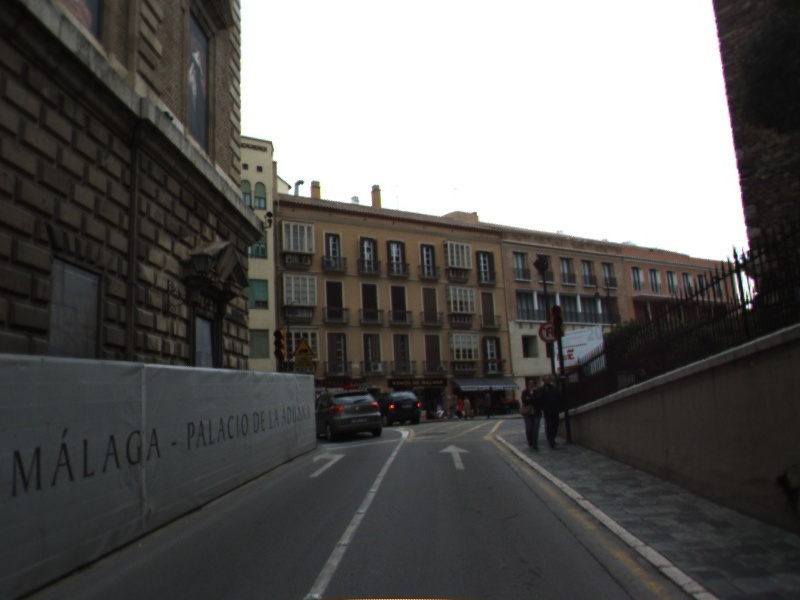LEFT: (307, 449, 349, 480)
STRAIGHT: (436, 442, 473, 471)
